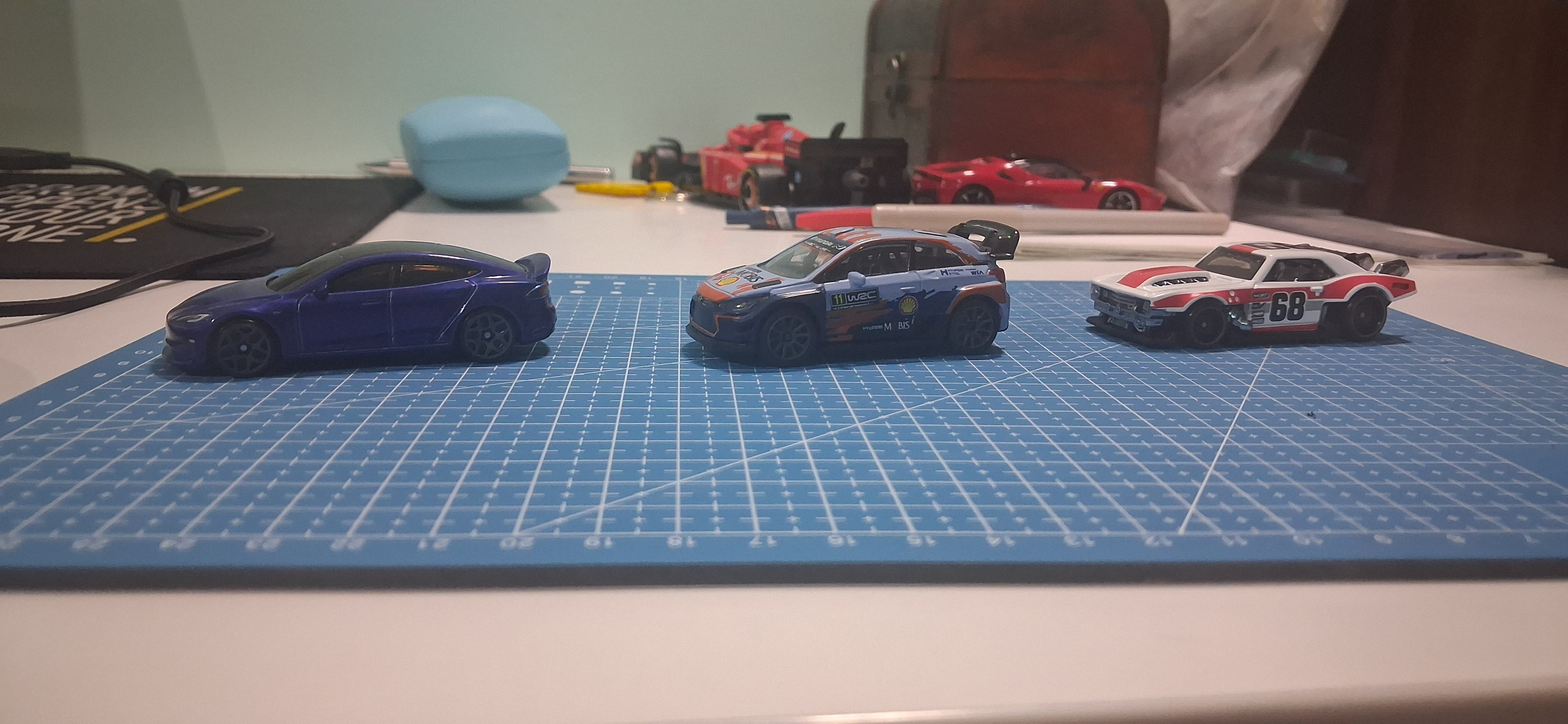Camaro: (1071, 198, 1441, 377)
Hyundai_I20_WRC: (639, 204, 1042, 395)
Tesla_Model_S_Plaid: (128, 197, 585, 400)
